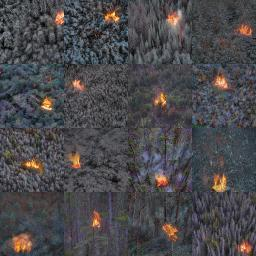Small fire: (10, 231, 37, 256), (158, 222, 184, 246), (235, 17, 256, 45), (21, 156, 42, 179), (148, 171, 171, 192), (88, 210, 106, 235), (72, 74, 89, 99), (210, 72, 232, 91), (165, 5, 181, 31), (213, 173, 234, 192), (68, 151, 85, 173), (103, 8, 120, 29), (39, 97, 57, 115), (155, 92, 169, 109), (238, 241, 256, 254), (55, 8, 67, 27)
